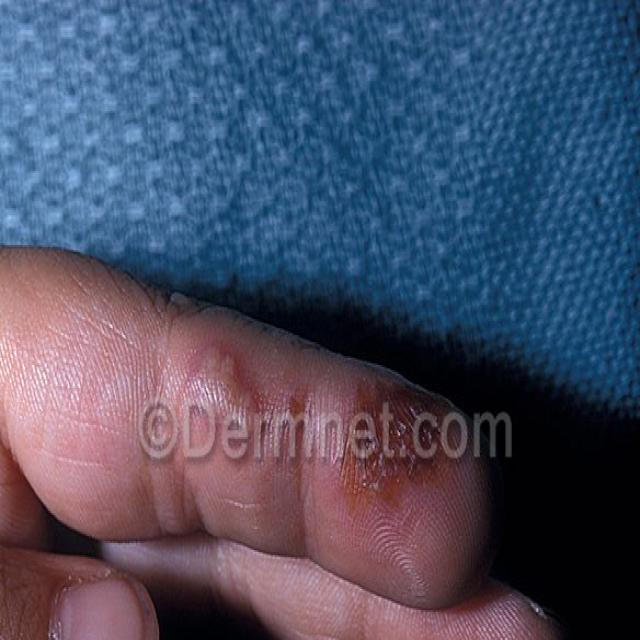Viral Infections: (322, 356, 450, 539), (179, 329, 276, 486)
